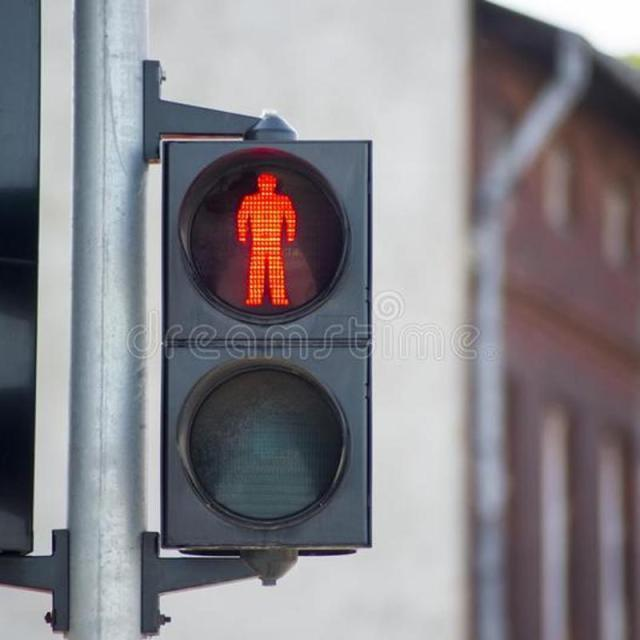red-crossing: (166, 142, 367, 332)
